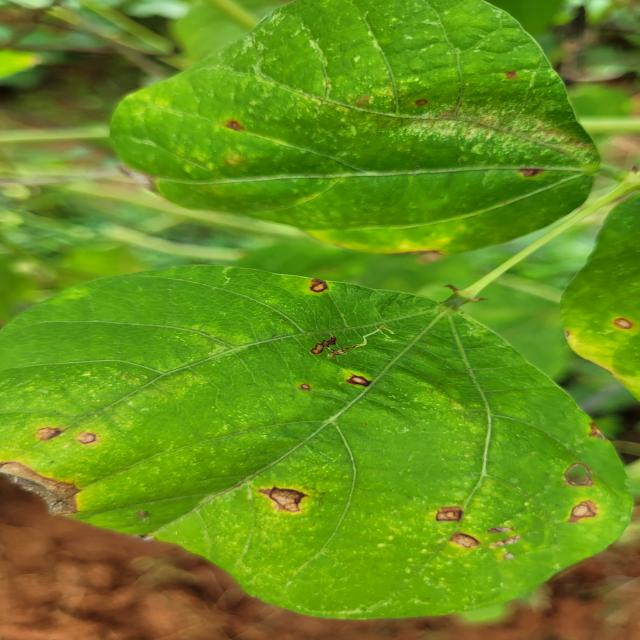Dolicos bean_cercospora leaf spot: (0, 261, 640, 618), (108, 0, 607, 247)
